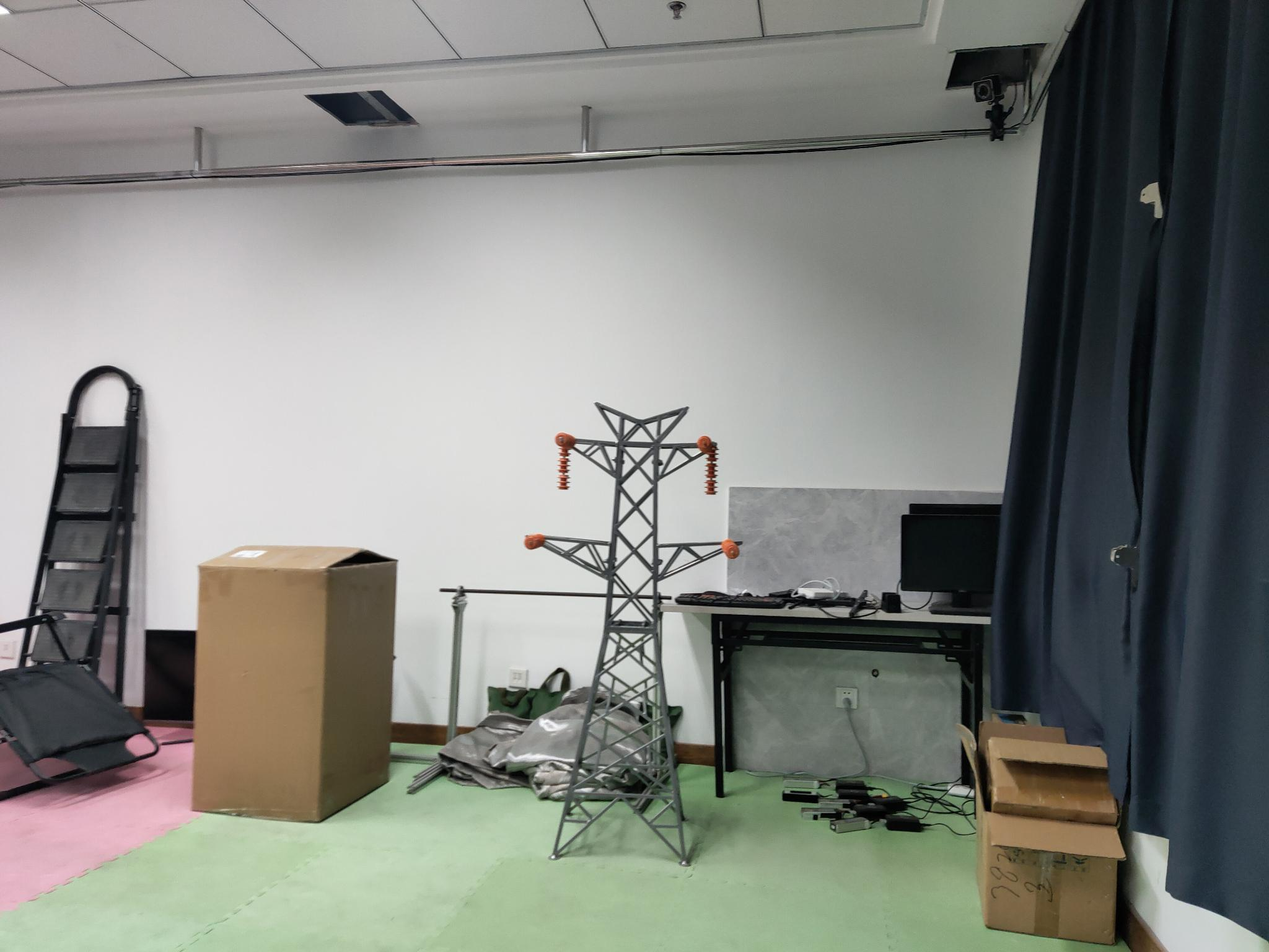tower: (523, 402, 732, 866)
